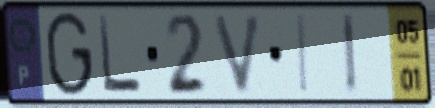2: (161, 10, 211, 98)
G: (44, 9, 95, 100)
I: (338, 10, 360, 98), (295, 12, 312, 97)
L: (95, 12, 145, 97)
V: (210, 10, 267, 97)
